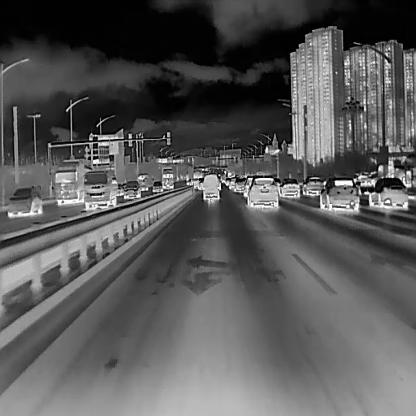bus: (136, 173, 148, 191)
car: (319, 175, 358, 209), (368, 176, 408, 206), (6, 185, 41, 216), (246, 174, 277, 207), (278, 177, 298, 198), (202, 175, 219, 199), (301, 175, 320, 195), (122, 180, 140, 198), (243, 177, 253, 196), (151, 180, 162, 192), (235, 176, 243, 192), (228, 178, 234, 189)
truck: (53, 159, 92, 206), (82, 170, 116, 207), (160, 166, 173, 188)
